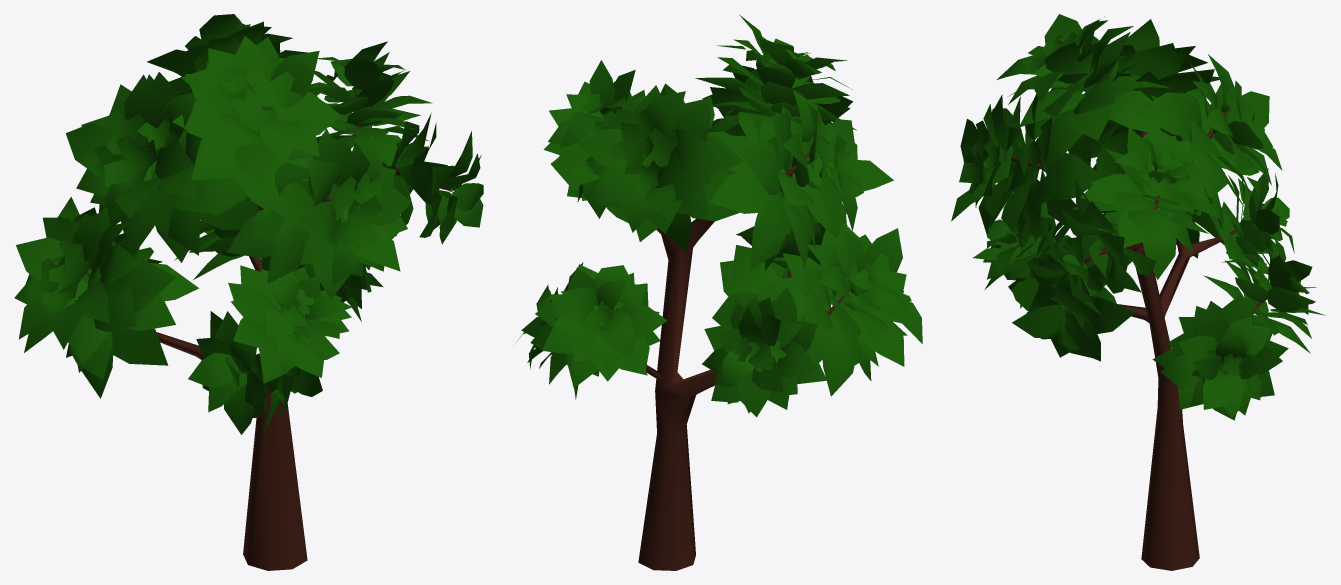
Rendered from Albero_1.fbx.
3 views of the same model, side by side, from view 1: azimuth 30°, elevation 25°; view 2: azimuth 150°, elevation 25°; view 3: azimuth 270°, elevation 25° (orthographic). The views are drawn at different scales.
Visible parts, largest first — view 1: Albero.001; view 2: Albero.001; view 3: Albero.001.
Boxes of the visible parts, x1,y1,x2,y2 form: Albero.001: [14, 14, 483, 570]; Albero.001: [516, 14, 922, 570]; Albero.001: [951, 14, 1325, 570].
Bounding box in the file's own units: 3736 × 4681 × 3126.
